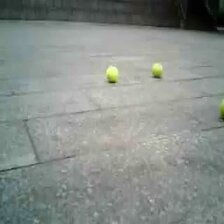tennis: (151, 62, 164, 77), (106, 65, 118, 81)
